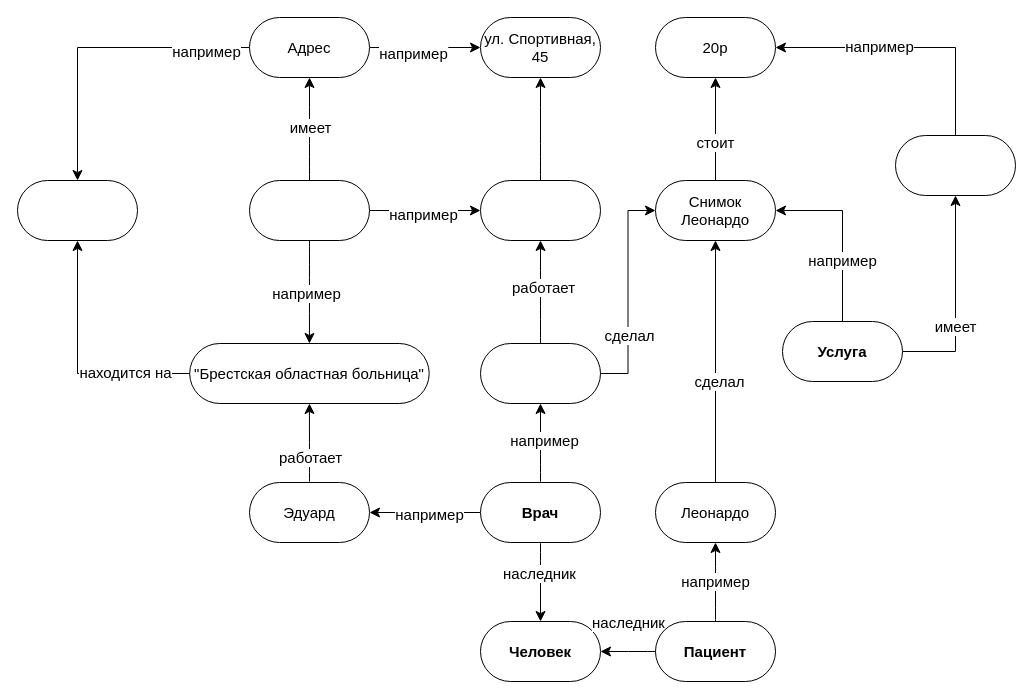
Image size: 1033x699. Some labels were removed from this diagram. The centre of each missing label's shape, as x and y in pixels:
"Новамед": (x=540, y=210)
Больница: (x=309, y=210)
Рафаэль: (x=540, y=373)
ул. Пушкина, 18: (x=77, y=210)
Цена: (x=955, y=165)
